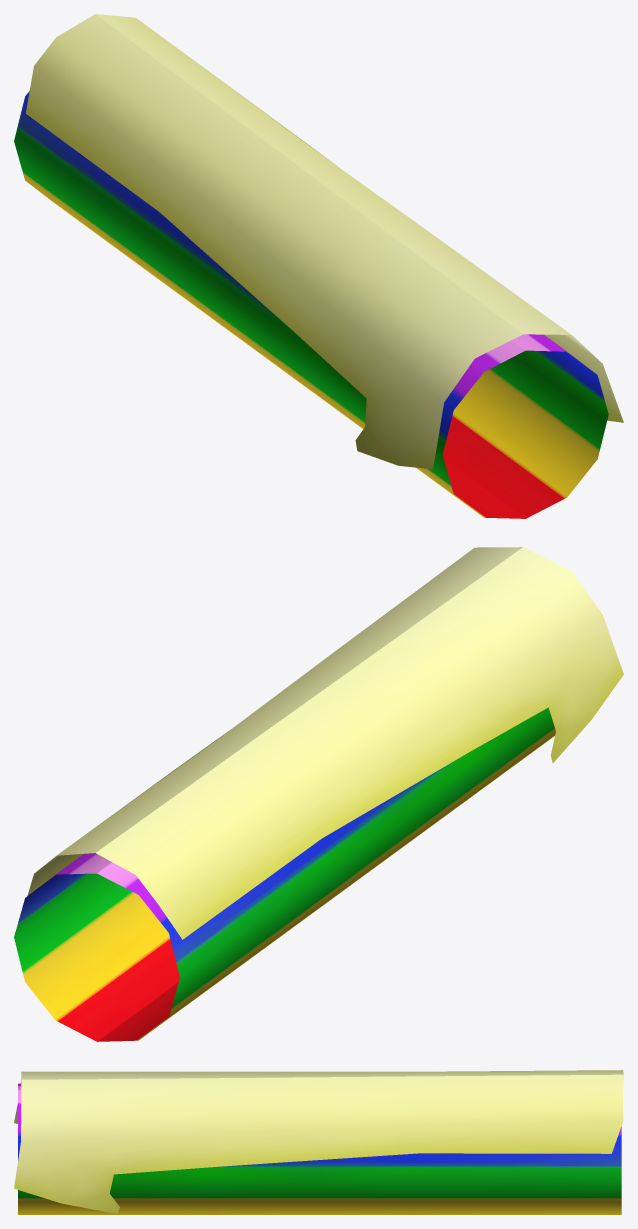
File: cuerpo2.obj
3 renders of one model, top to bottom at view 1: azimuth 30°, elevation 25°; view 2: azimuth 150°, elevation 25°; view 3: azimuth 270°, elevation 25°, orthographic. The views are drawn at different scales.
Parts seen in each view (by area): view 1: cuerpo2; view 2: cuerpo2; view 3: cuerpo2.
Boxes of the visible parts, x1,y1,x2,y2 form: cuerpo2: [14, 14, 623, 518]; cuerpo2: [14, 547, 623, 1041]; cuerpo2: [14, 1070, 623, 1214].
Bounding box in the file's own units: 0.2071 × 0.1923 × 0.7948.
